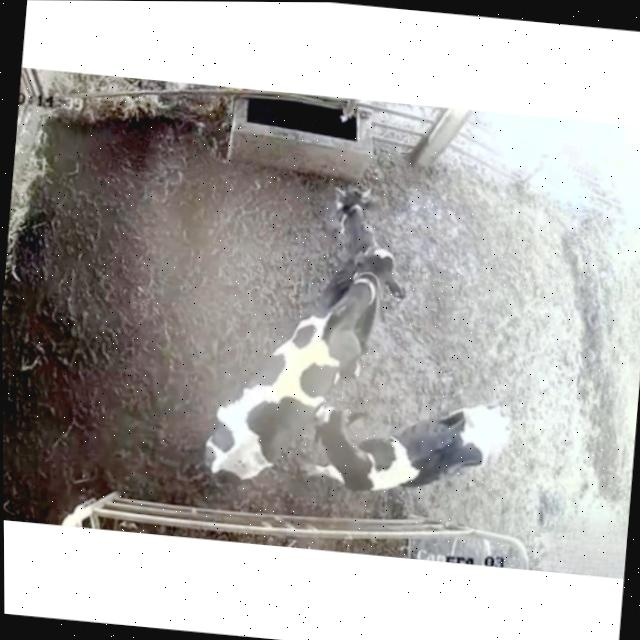ride: (172, 224, 417, 513)
